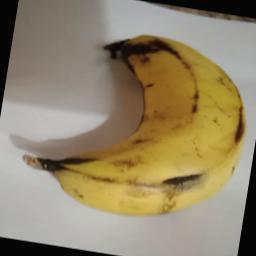Banana Unripe: (10, 20, 256, 231)
